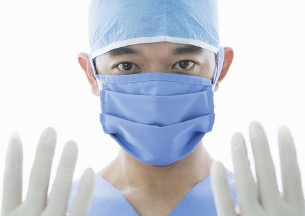Mask: (95, 38, 218, 161)
